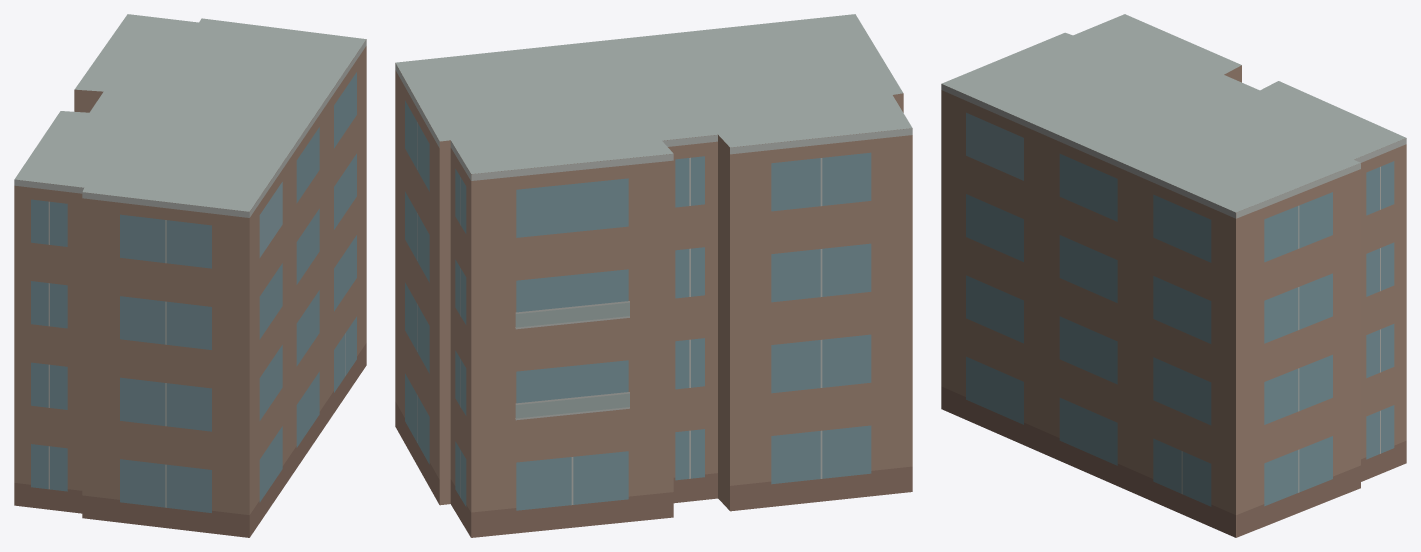
The model's file is survey-upis-32825760.glb.
The picture shows the model from 3 angles, left to right: view 1: azimuth 30°, elevation 25°; view 2: azimuth 150°, elevation 25°; view 3: azimuth 270°, elevation 25°; orthographic projection. The views are drawn at different scales.
Parts seen in each view (by area): view 1: survey-upis-32825760.tmp; view 2: survey-upis-32825760.tmp; view 3: survey-upis-32825760.tmp.
Part boxes in pixels (left/top/right/bottom): survey-upis-32825760.tmp: left=14, top=14, right=366, bottom=537; survey-upis-32825760.tmp: left=395, top=14, right=912, bottom=537; survey-upis-32825760.tmp: left=941, top=14, right=1406, bottom=537.
Size of the model in its own units: 16.77 by 12.8 by 16.6.
